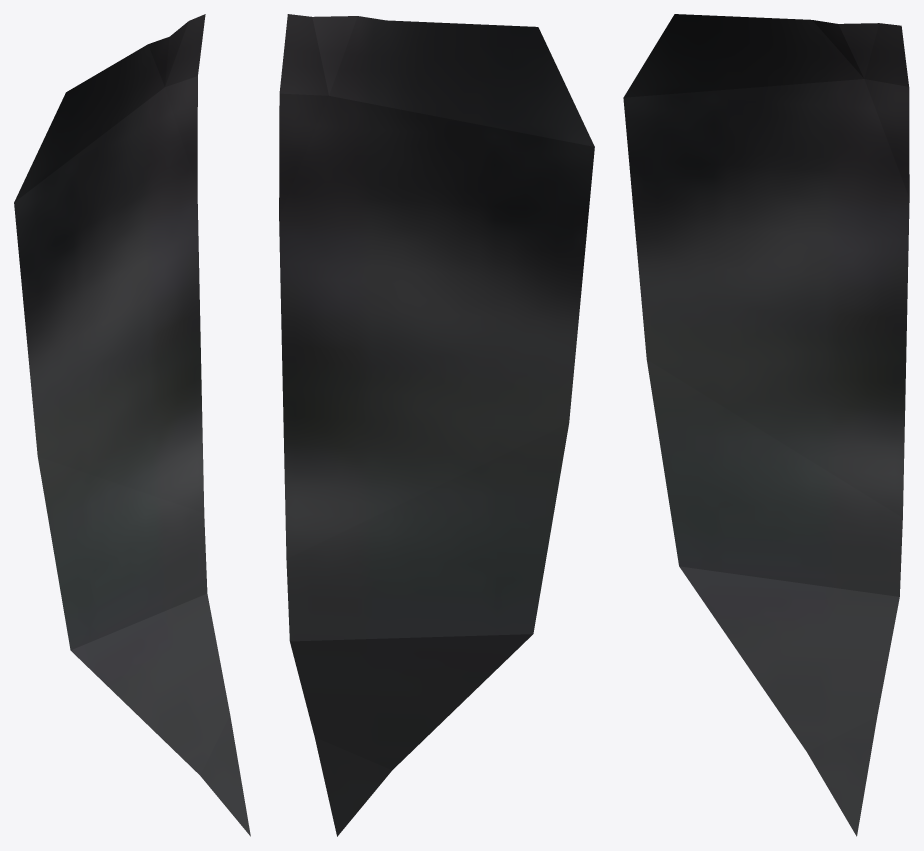
3 renders of one model, left to right at view 1: azimuth 30°, elevation 25°; view 2: azimuth 150°, elevation 25°; view 3: azimuth 330°, elevation 25°, orthographic. The views are drawn at different scales.
Bounding box in the file's own units: 0.1225 × 0.3901 × 0.0478.
Materials: 1 (1 with a texture image).
